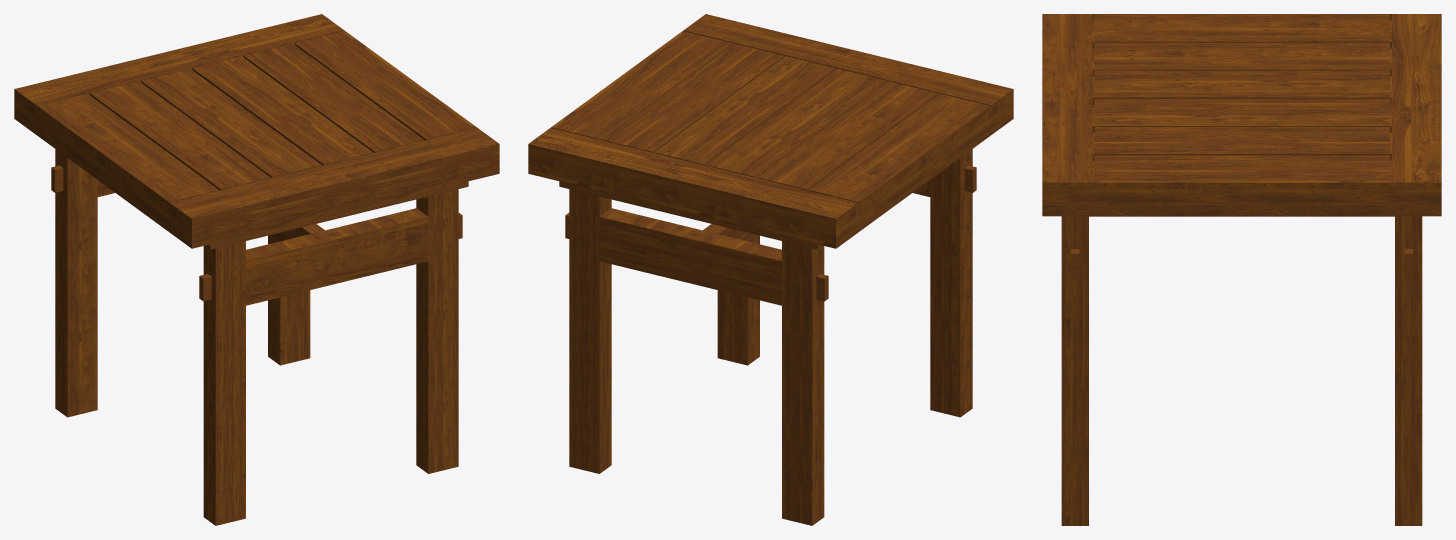
Rendered from Renata-Side-Table.glb.
The picture shows the model from 3 angles, left to right: view 1: azimuth 30°, elevation 25°; view 2: azimuth 150°, elevation 25°; view 3: azimuth 270°, elevation 25°; orthographic projection. The views are drawn at different scales.
Visible parts, largest first — view 1: Cube.013, Cube.003, Cube.002, Cube.005, Cube.006, Cube.004, Cube.014; view 2: Cube.013, Cube.005, Cube.004, Cube.003, Cube.007, Cube.002, Cube.015; view 3: Cube.013, Cube.004, Cube.002.
Part boxes in pixels (<box>): Cube.013: <box>14,14,499,248</box>; Cube.003: <box>203,241,245,525</box>; Cube.002: <box>416,189,458,473</box>; Cube.005: <box>55,149,97,417</box>; Cube.006: <box>246,208,428,305</box>; Cube.004: <box>268,235,310,365</box>; Cube.014: <box>210,181,468,249</box>; Cube.013: <box>528,14,1013,248</box>; Cube.005: <box>782,241,824,525</box>; Cube.004: <box>569,189,611,473</box>; Cube.003: <box>930,149,972,417</box>; Cube.007: <box>599,208,781,305</box>; Cube.002: <box>717,235,759,365</box>; Cube.015: <box>559,181,817,249</box>; Cube.013: <box>1042,14,1441,216</box>; Cube.004: <box>1395,216,1422,525</box>; Cube.002: <box>1061,216,1088,525</box>.
Bounding box in the file's own units: 0.4416 × 0.4405 × 0.4414.
1 material, 1 textured.
